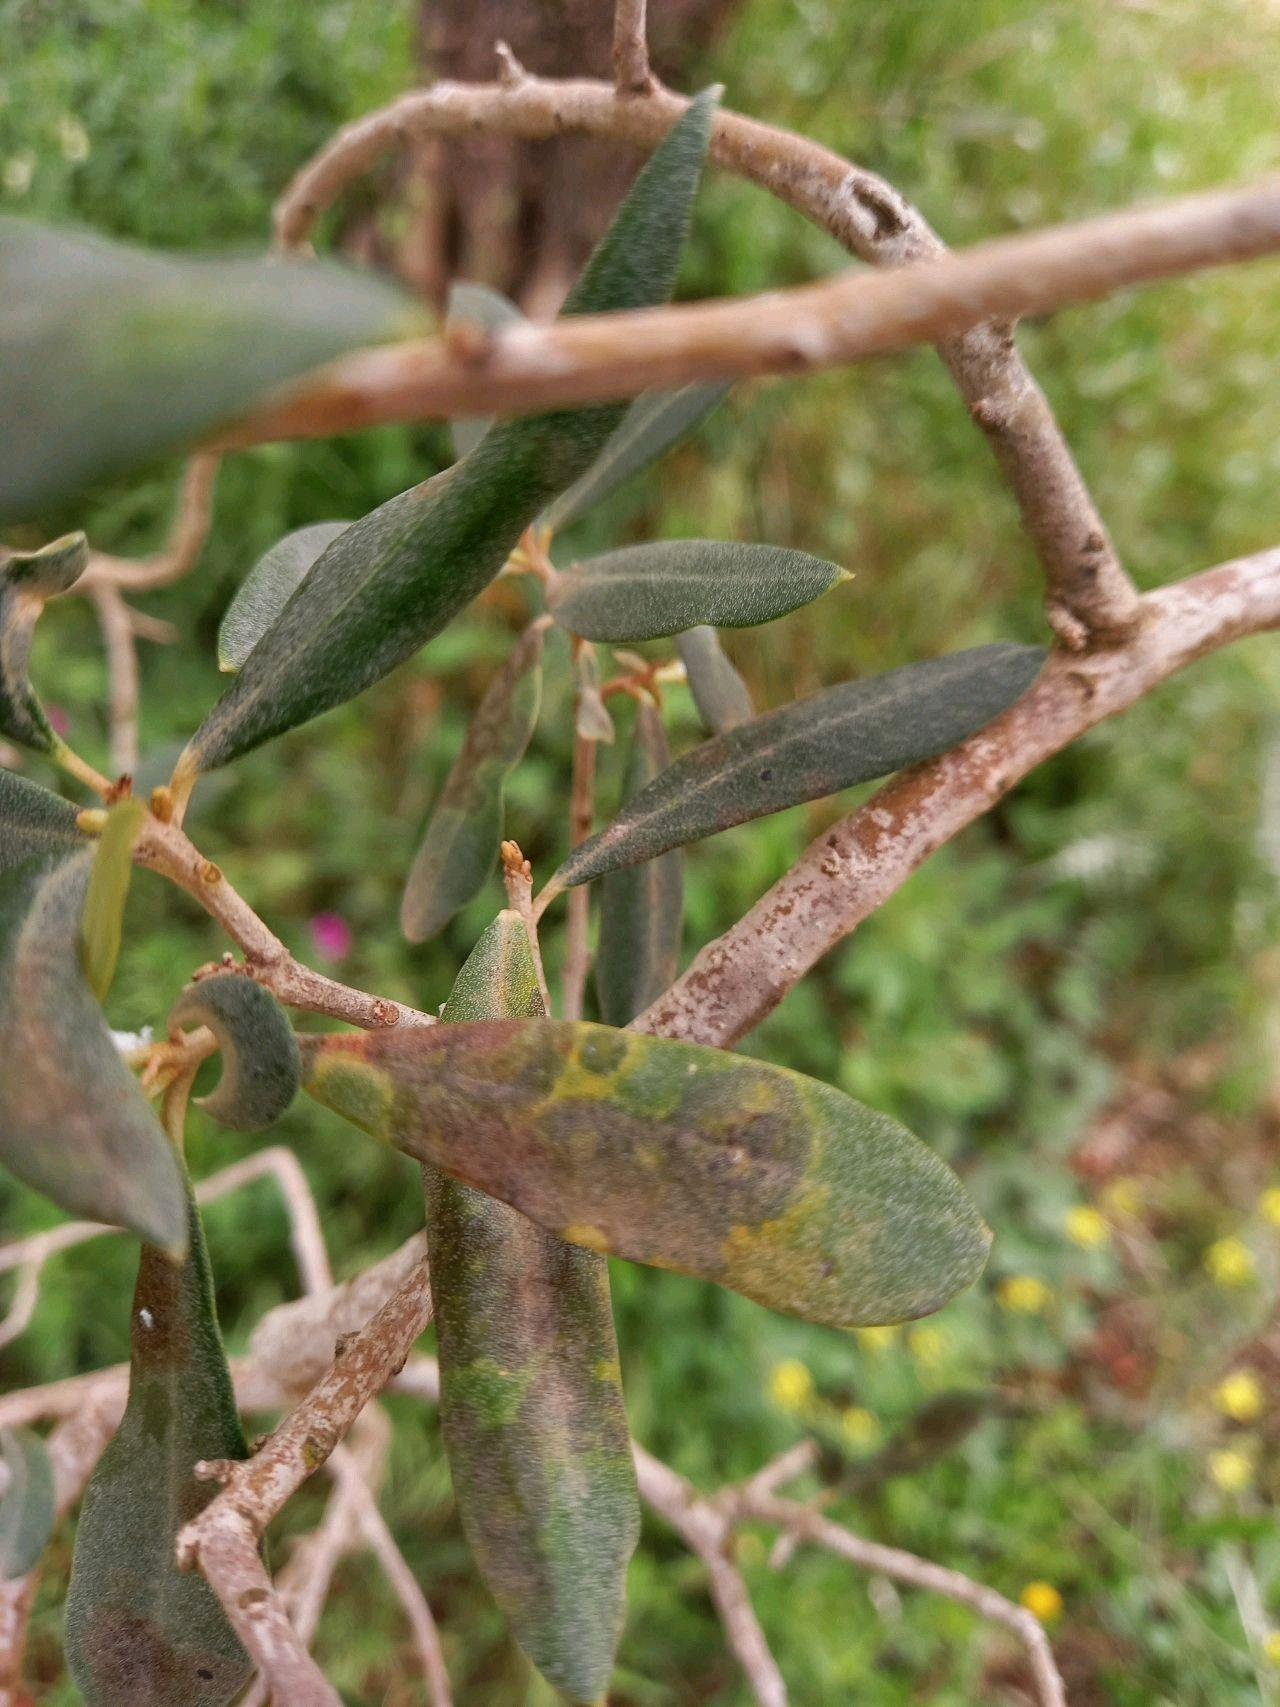OlivePeacockSpot: (300, 1004, 1012, 1339), (424, 909, 648, 1703), (555, 640, 1042, 901), (0, 780, 203, 1259), (67, 1245, 272, 1707), (397, 620, 555, 956)
